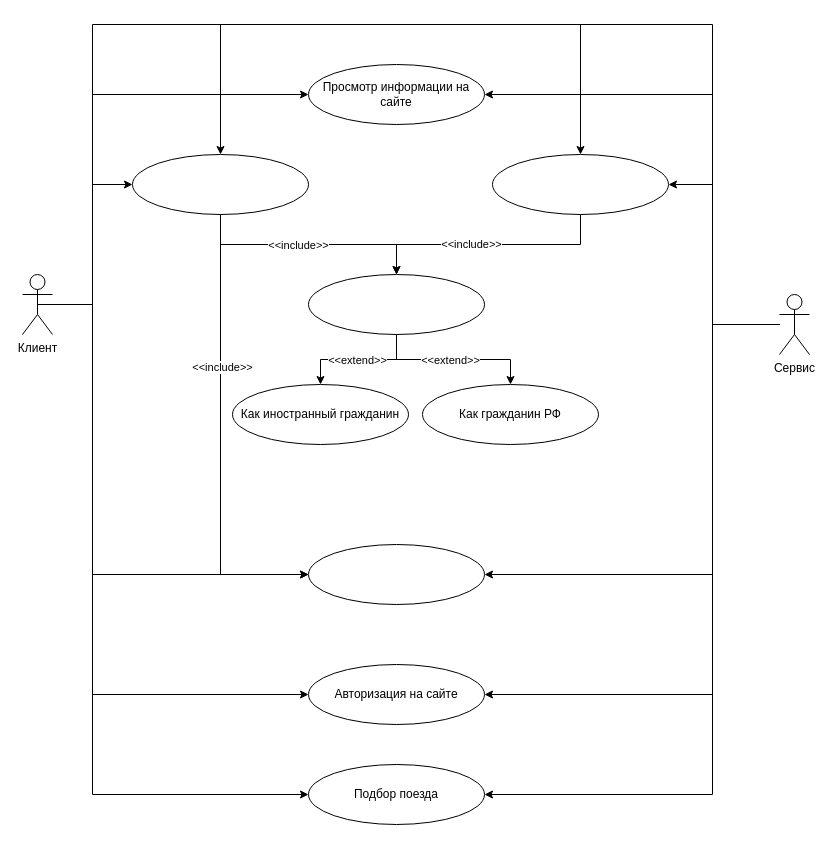
Image size: 832x842. Some labels were removed from this diagram. The shapes that lost their labels are listed below. From the top down, each one's box as (x1, y1, x2, y2) in pixels, then its label:
(132, 154, 308, 214): Покупка билета
(492, 154, 668, 214): Регистрация на сайте
(308, 274, 484, 334): Ввод персональных данных
(308, 544, 484, 604): Бронирование билета
